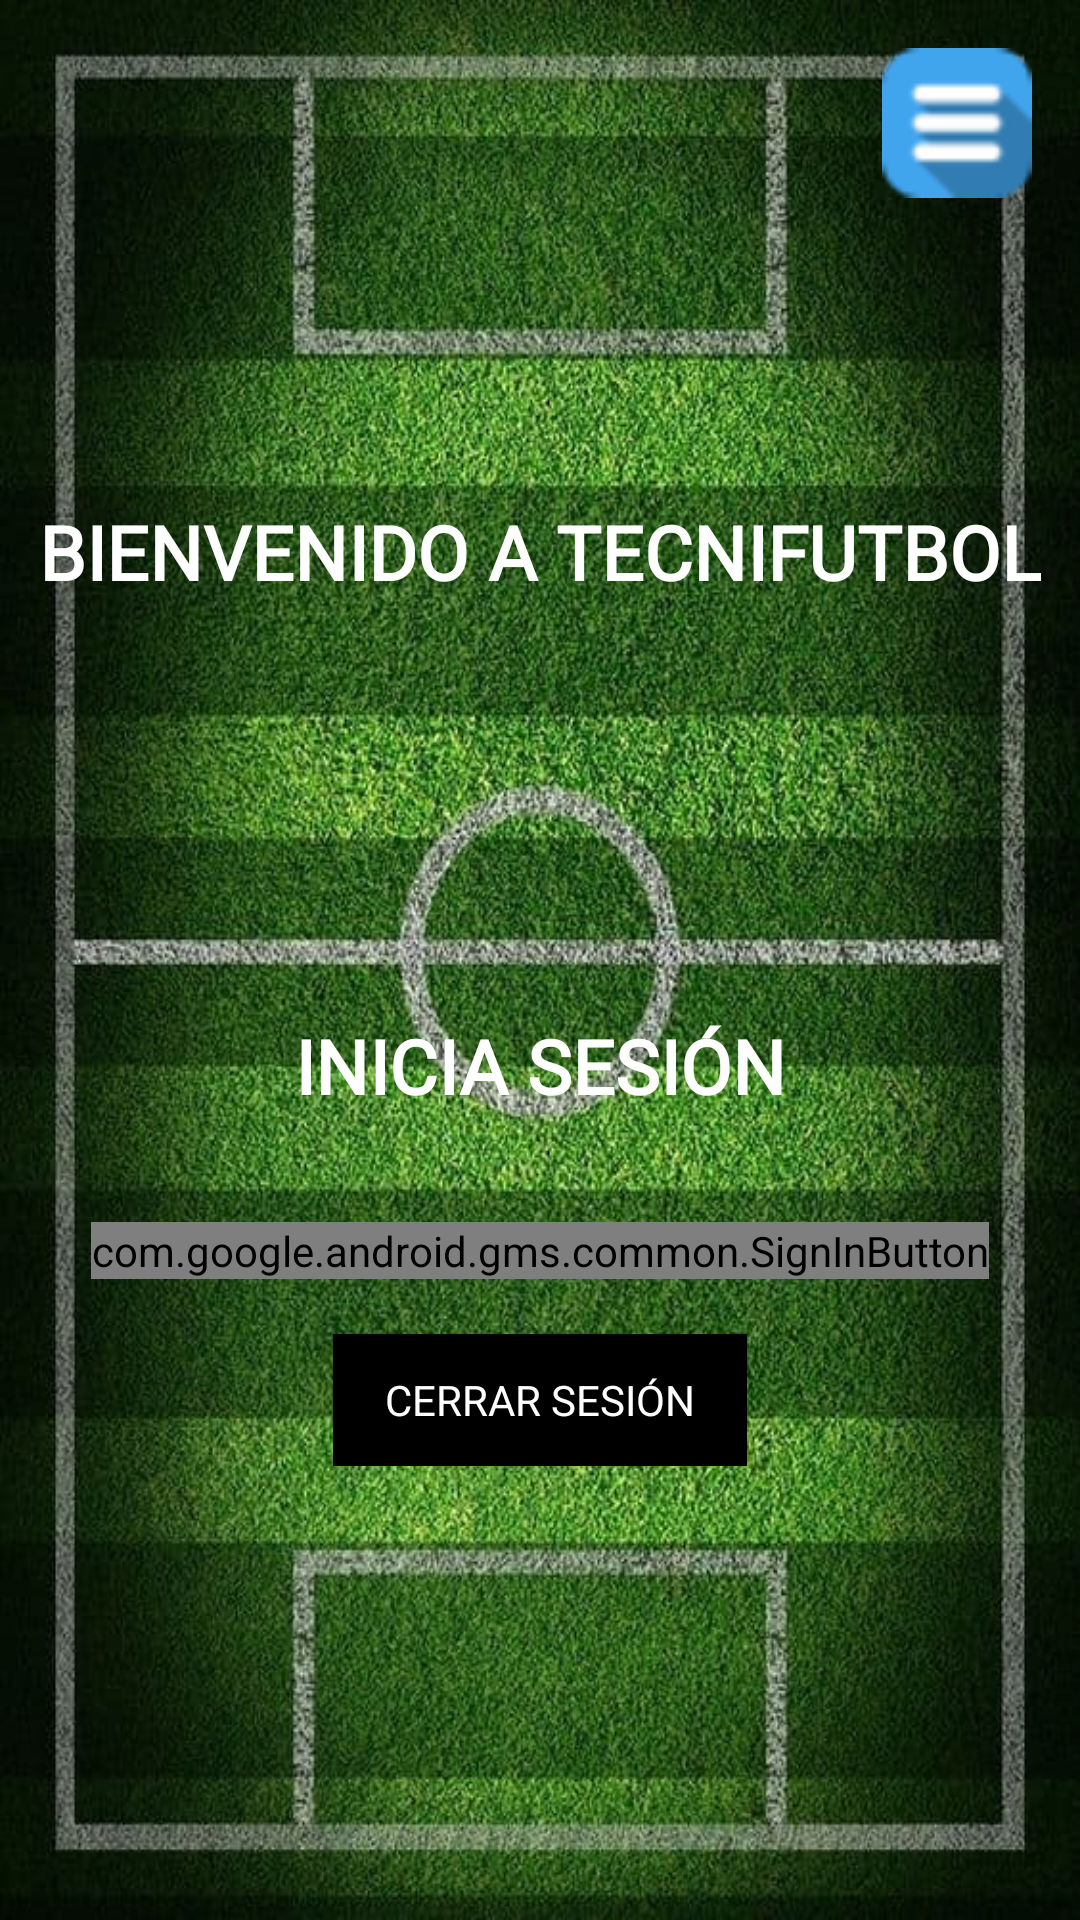

Where to tap for icons on this 1080 x 1920 app screen, as (x=x, y=y):
burger menu: (x=957, y=123)
